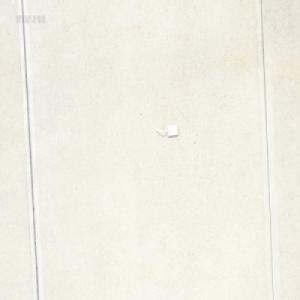LuggageTag: (154, 123, 178, 139)
